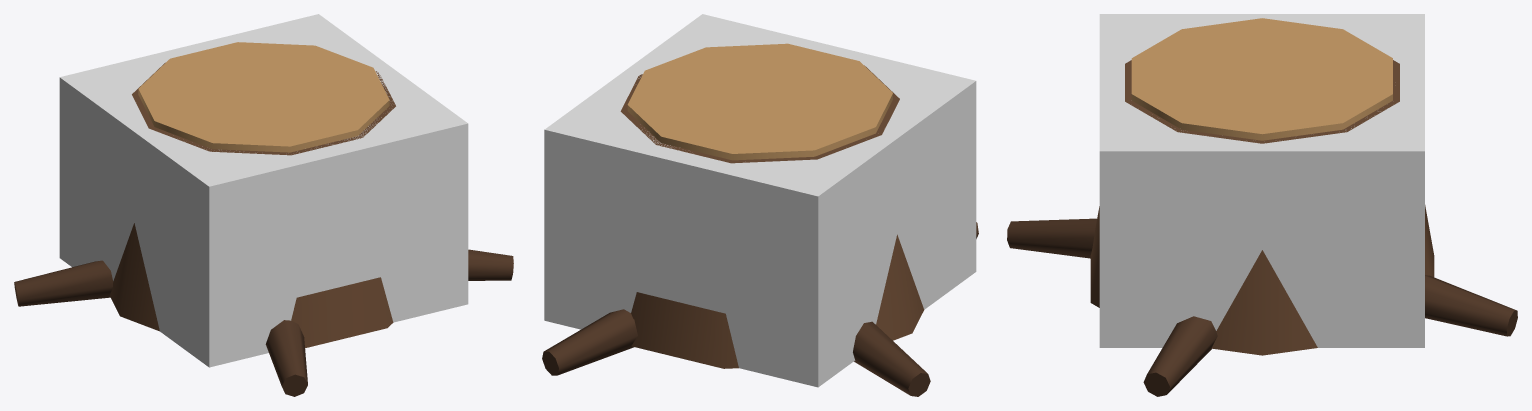
Rendered from tocon.glb.
3 renders of one model, left to right at view 1: azimuth 30°, elevation 25°; view 2: azimuth 150°, elevation 25°; view 3: azimuth 270°, elevation 25°, orthographic. The views are drawn at different scales.
Parts seen in each view (by area): view 1: COL_0, tocon_Malla; view 2: COL_0, tocon_Malla; view 3: COL_0, tocon_Malla.
Boxes of the visible parts, x1,y1,x2,y2 form: COL_0: [59, 14, 468, 367]; tocon_Malla: [14, 42, 513, 396]; COL_0: [544, 14, 976, 387]; tocon_Malla: [542, 43, 978, 396]; COL_0: [1099, 14, 1424, 347]; tocon_Malla: [1007, 18, 1517, 396].
Size of the model in its own units: 1.41 by 0.6596 by 1.41.
